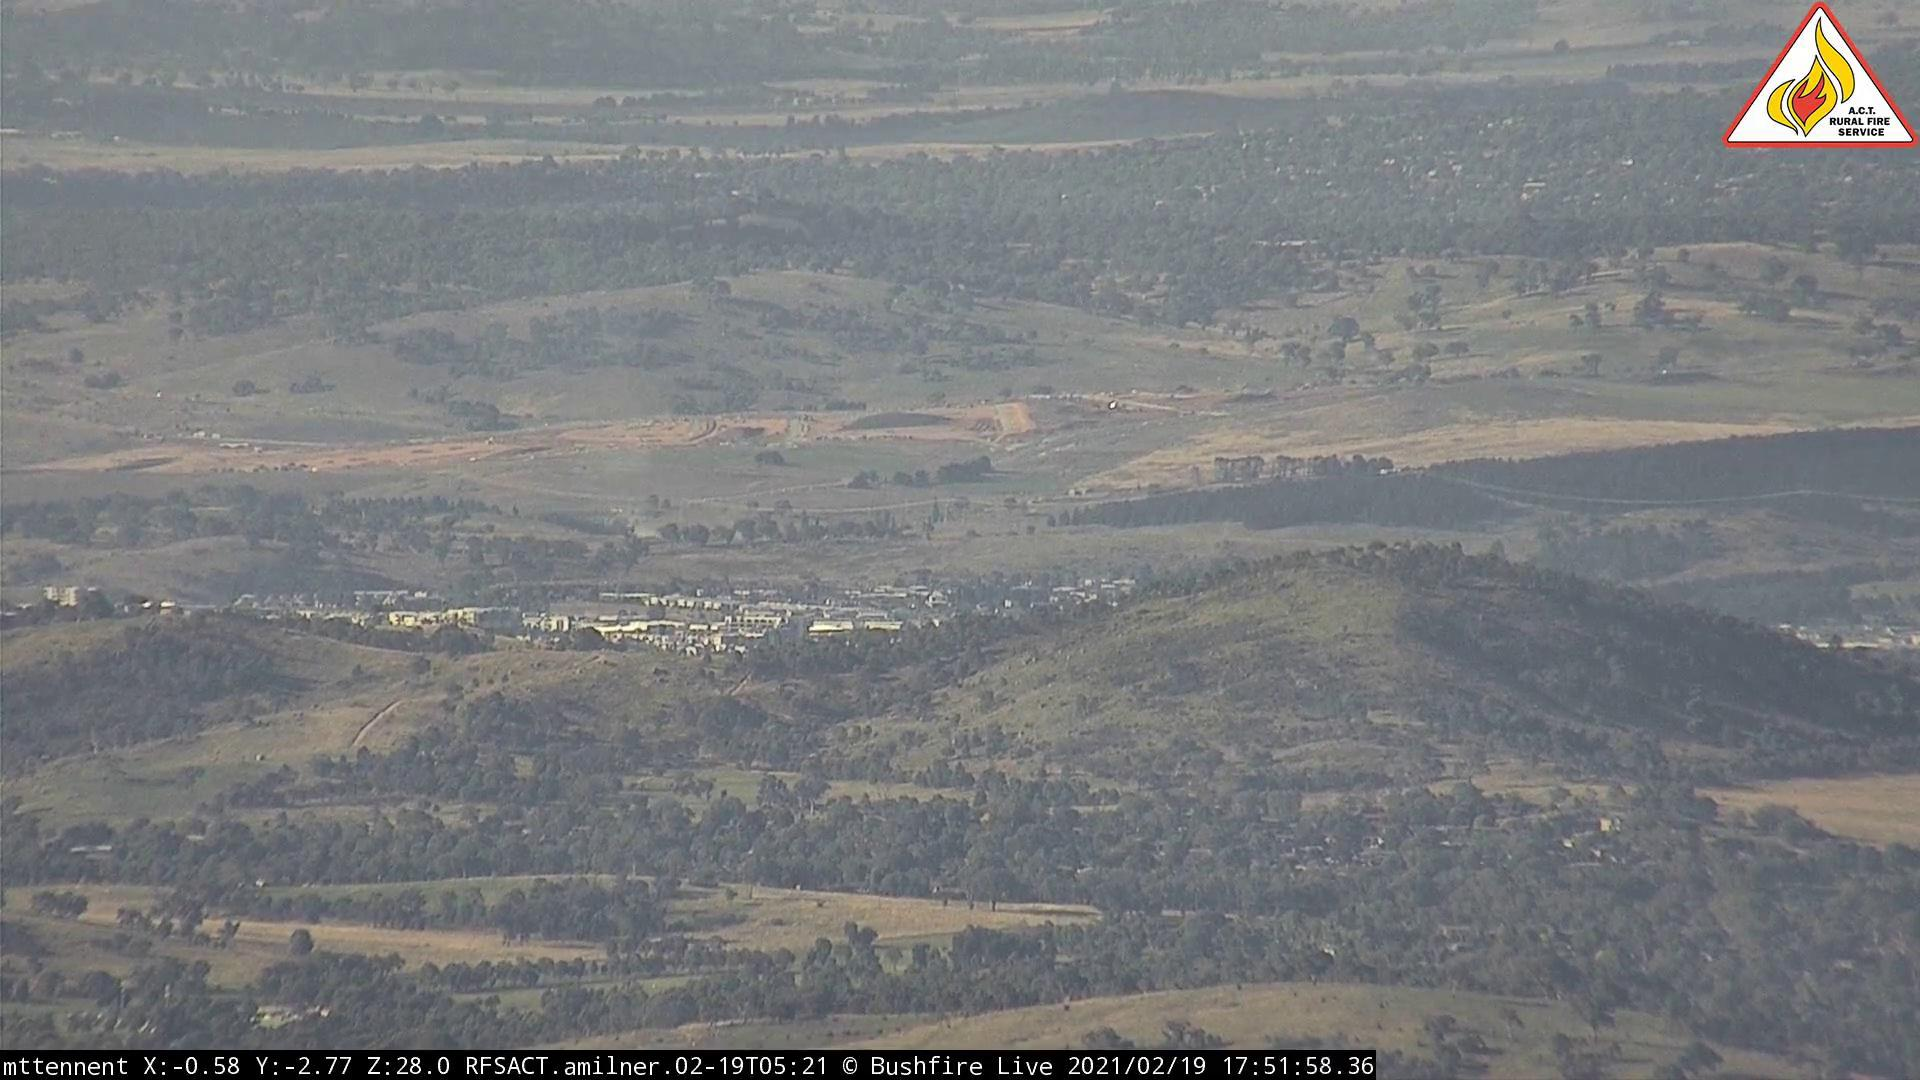Smoke: (607, 493, 679, 547)
